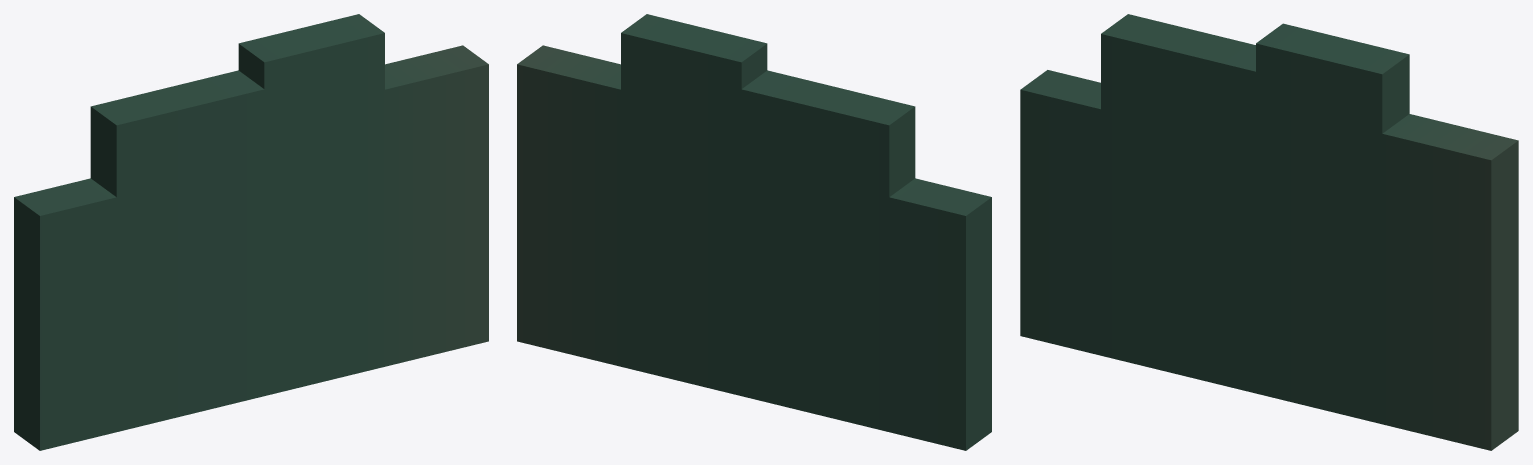
The model's file is SM_Wall_Broken_01.fbx.
3 views of the same model, side by side, from view 1: azimuth 30°, elevation 25°; view 2: azimuth 150°, elevation 25°; view 3: azimuth 330°, elevation 25° (orthographic). The views are drawn at different scales.
Parts seen in each view (by area): view 1: SM_Wall_Broken_01; view 2: SM_Wall_Broken_01; view 3: SM_Wall_Broken_01.
Part boxes in pixels (x1=…): SM_Wall_Broken_01: x1=14, y1=14, x2=488, y2=450; SM_Wall_Broken_01: x1=517, y1=14, x2=991, y2=450; SM_Wall_Broken_01: x1=1020, y1=14, x2=1518, y2=450.
Size of the model in its own units: 500 by 355 by 50.
1 material, 1 textured.
